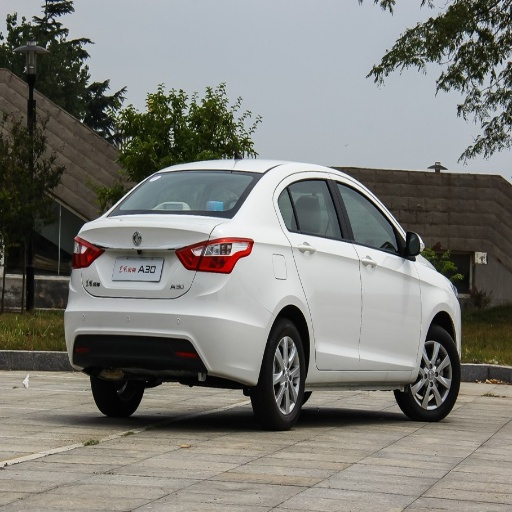back_bumper: (63, 271, 273, 380)
back_right_door: (276, 174, 357, 369)
tailgate: (83, 214, 209, 295)
